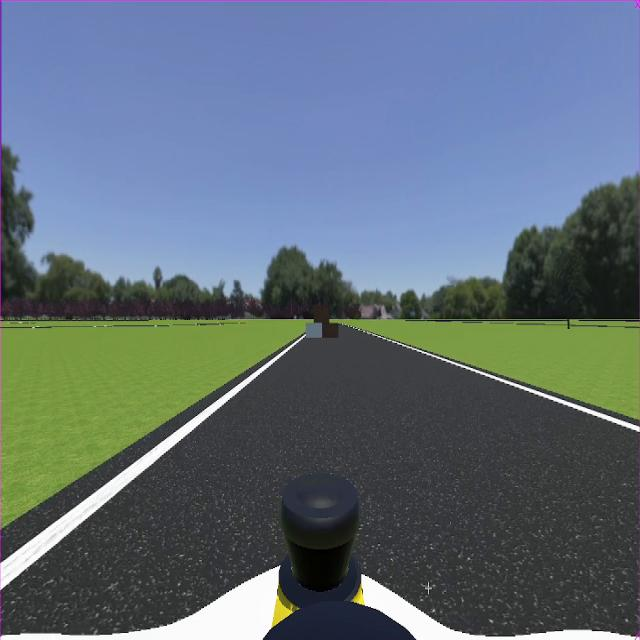road: (2, 330, 638, 635)
solid_line: (2, 340, 300, 589), (355, 328, 640, 434)
